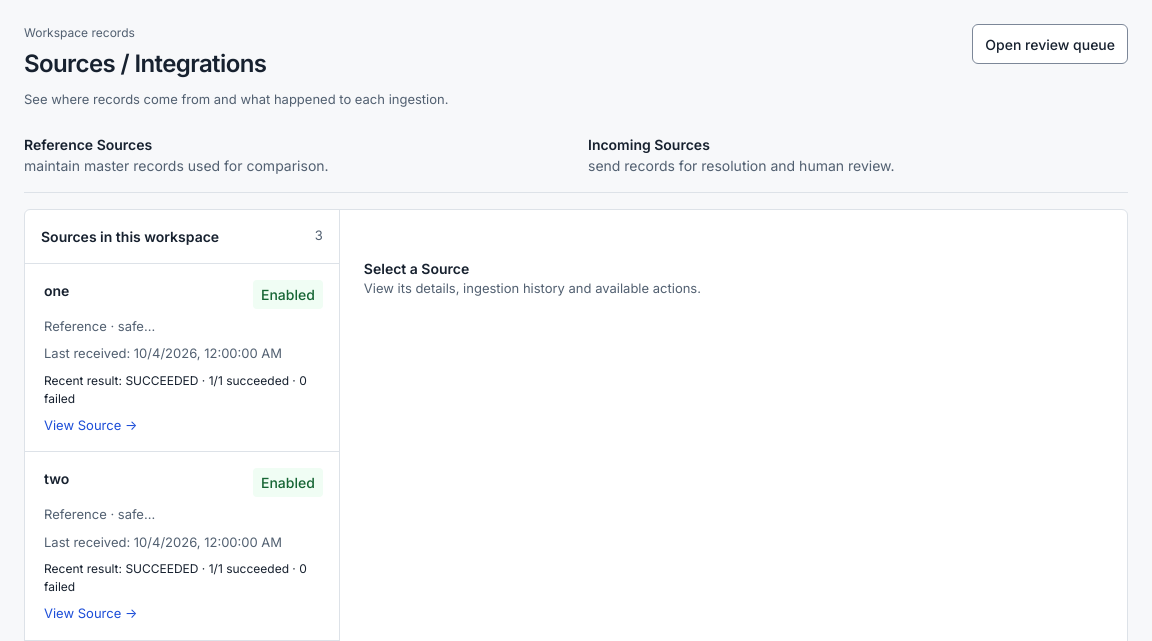
it: Source authority and history fidelity › reserves management for owners while keeping reviewer history readable
The width and height of the screenshot is (1152, 641).
Click the button with aria-label "View Source one": (182, 357) [25,264,339,451]
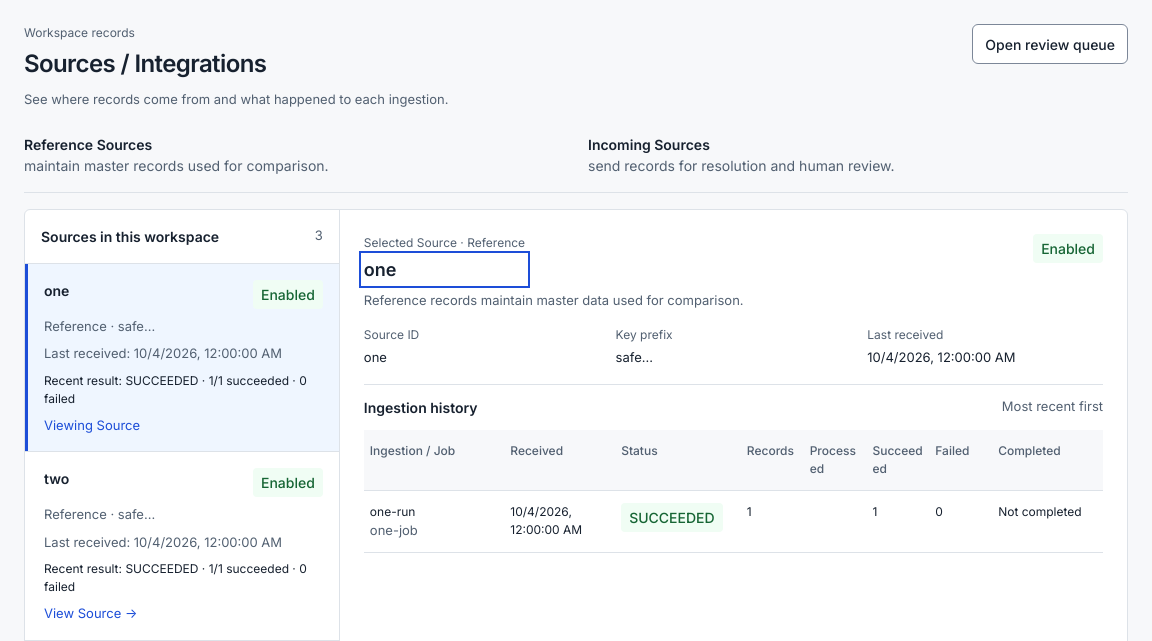
Check: the cell "one-run one-job" is shown, box [364,490,504,552]
